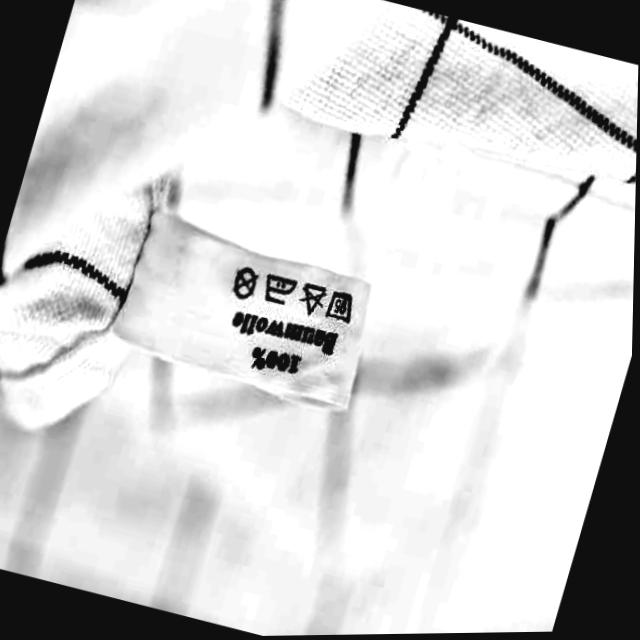95C: (329, 286, 357, 325)
DN_bleach: (301, 279, 327, 317)
DN_dry_clean: (230, 263, 260, 301)
iron_medium: (263, 266, 299, 308)
